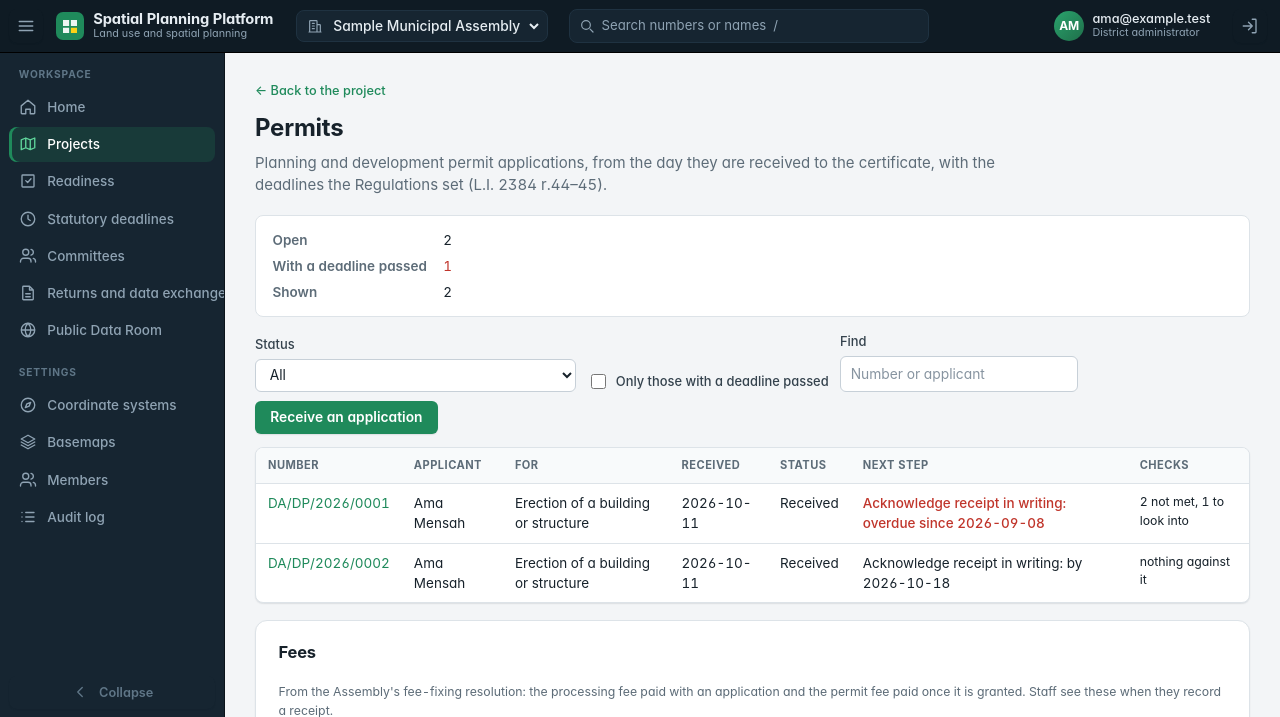
Test: permits page › offers only the categories of the chosen kind of permit, and refuses an unknown parcel
Click the button "Receive an application": (346,417) [255,401,438,434]
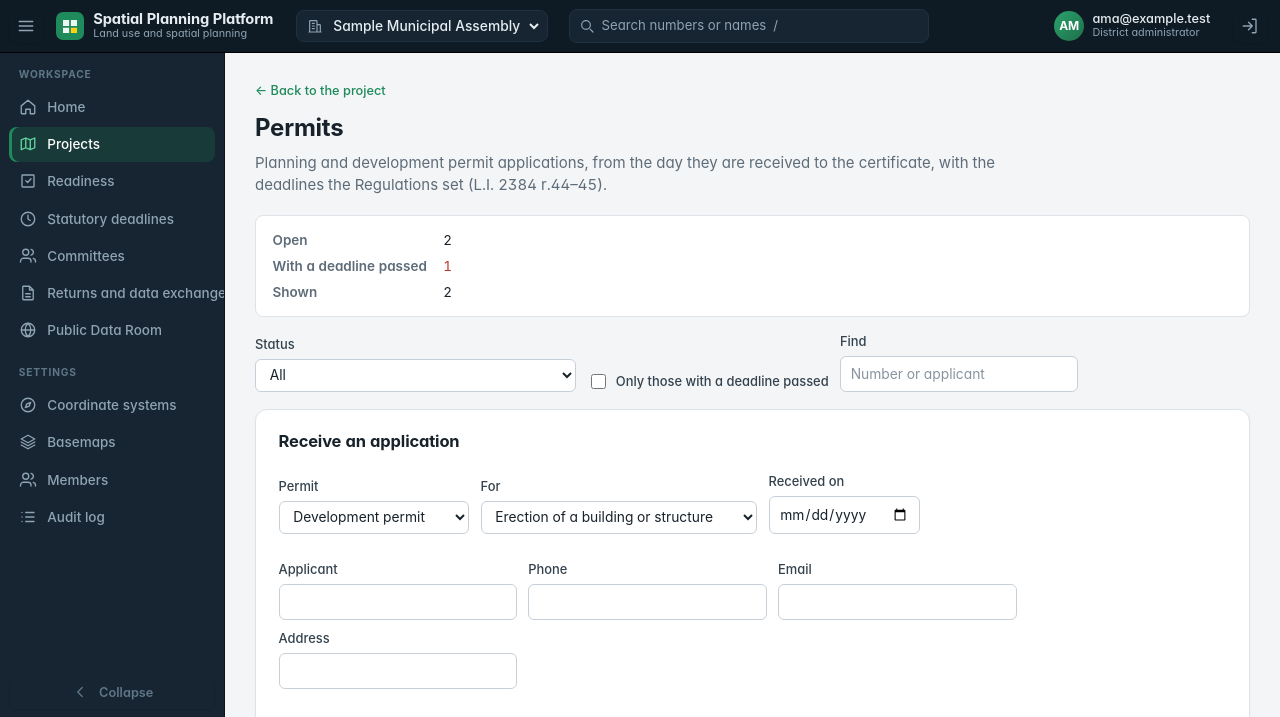
Expected: the option "Change of use" is not shown
Select "Planning permit" in the dropdown labelled "Permit": (374,517) [278,501,469,534]
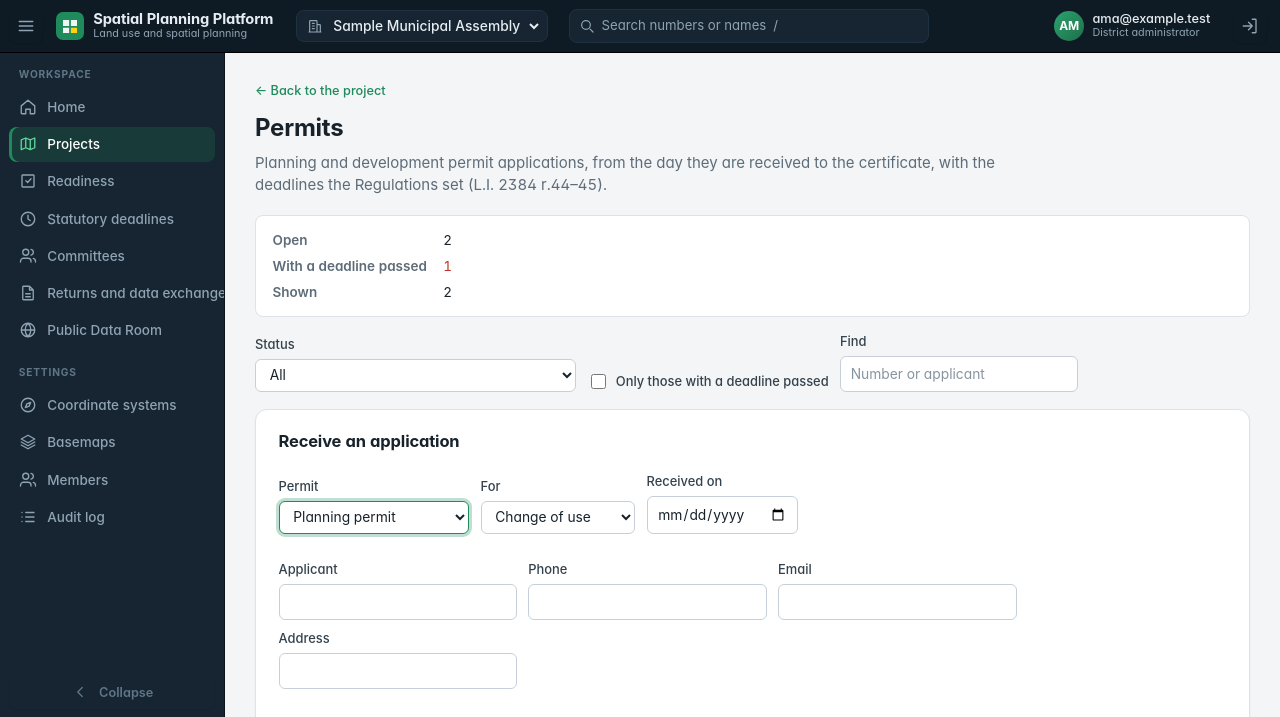
Expected: the dropdown labelled "For" shows "Change of use", [480,501,635,534]
In the field labelled "Applicant": (398,602) [278,584,517,620], type "Kofi"
(page scrolled)
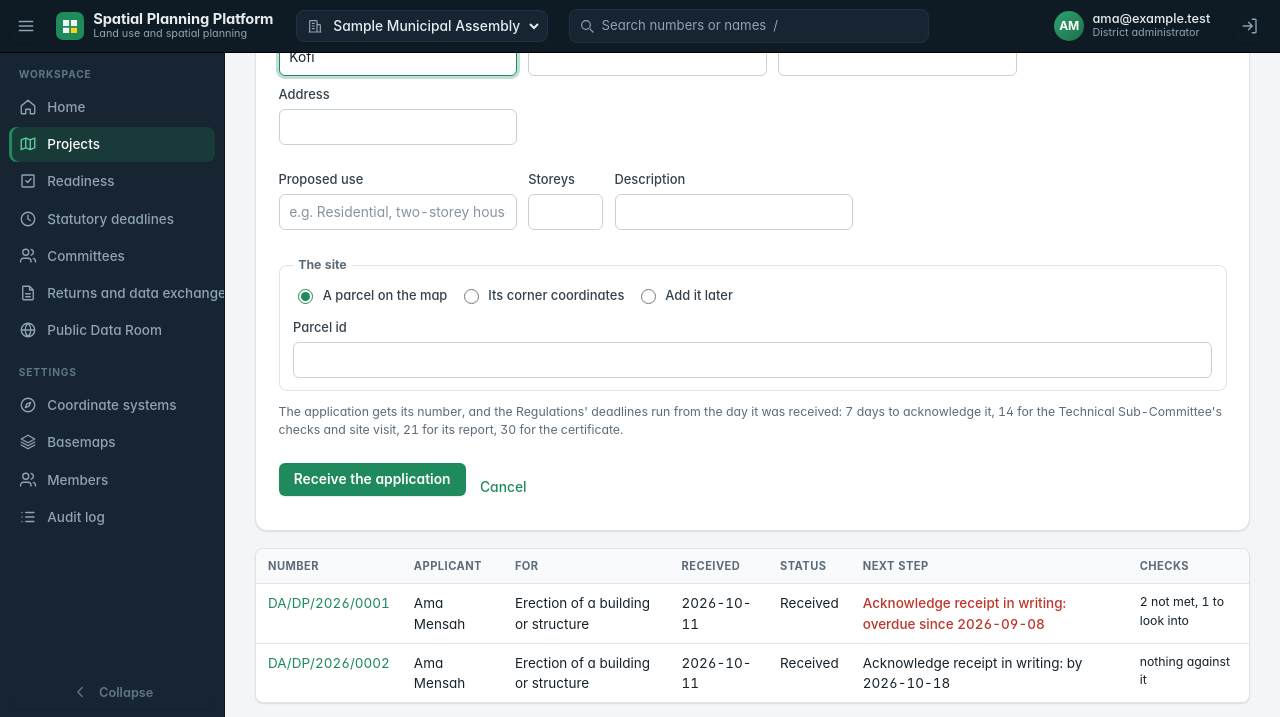
In the field labelled "Parcel id": (752,360) [293,342,1212,378], type "P-999"
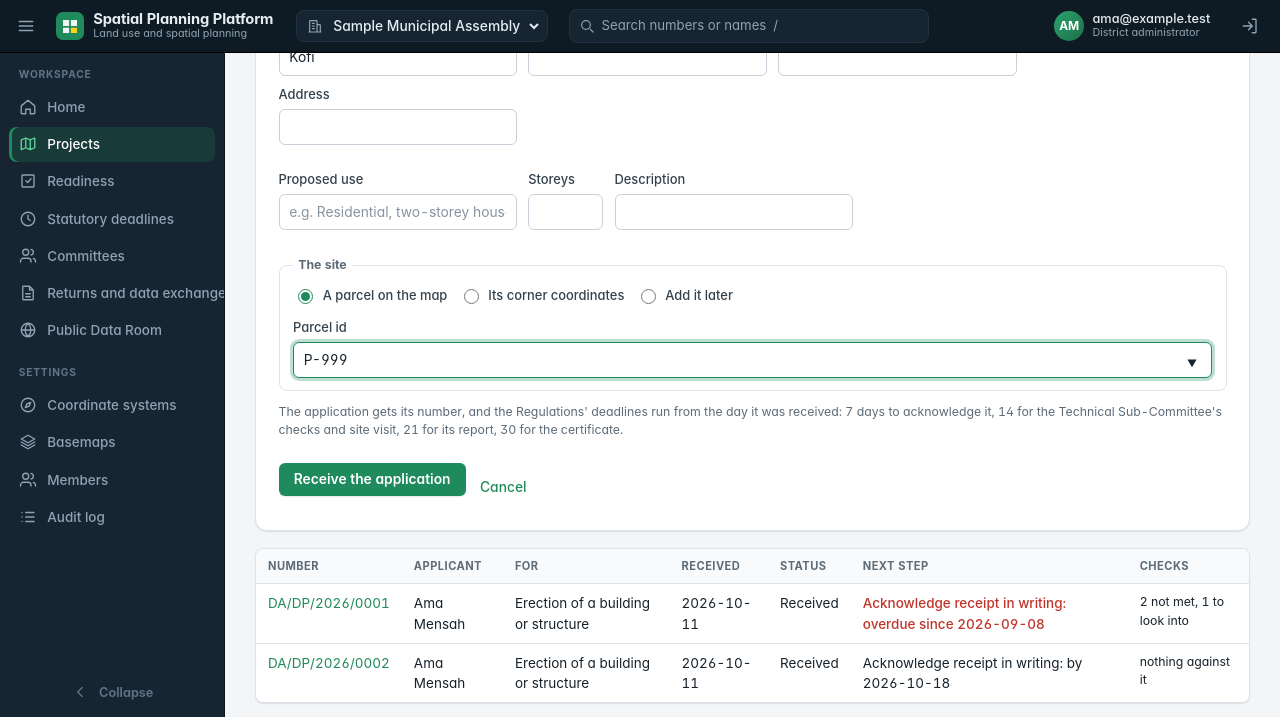
Click the button "Receive the application": (372,479) [278,463,466,496]
(page scrolled)
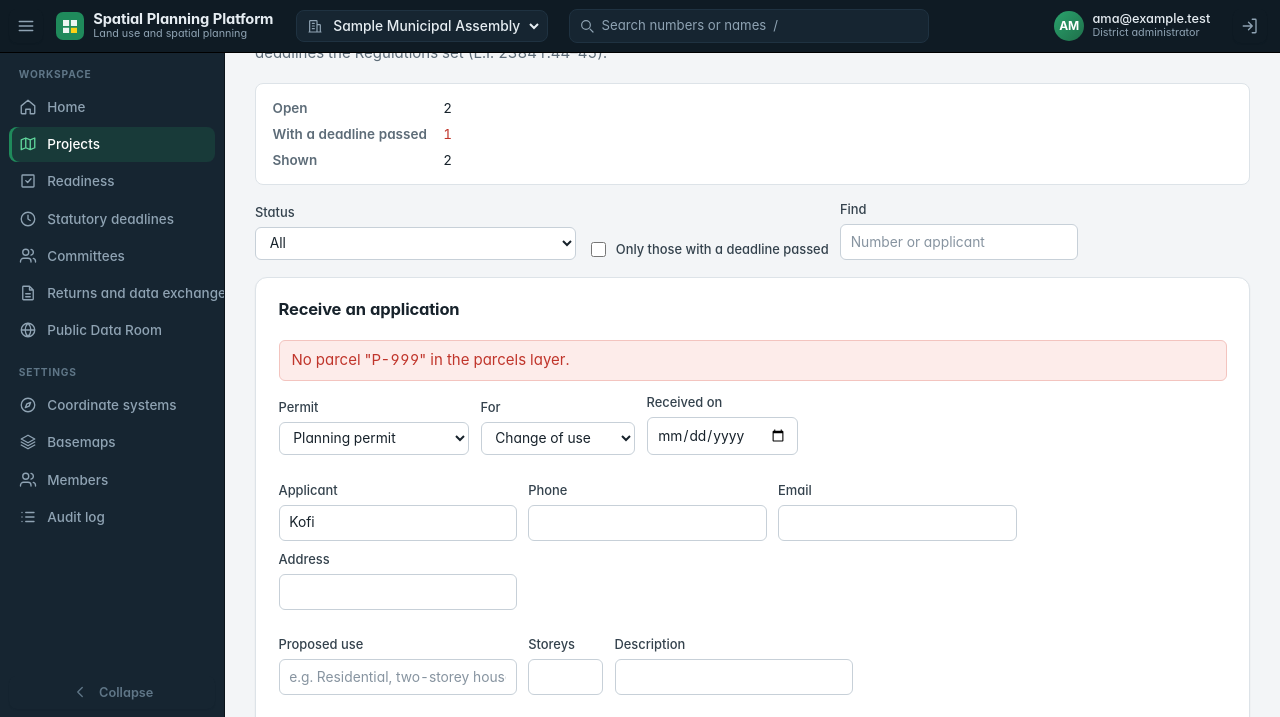
Expected: the message shows "No parcel \"P-999\"", [292,350,570,369]
